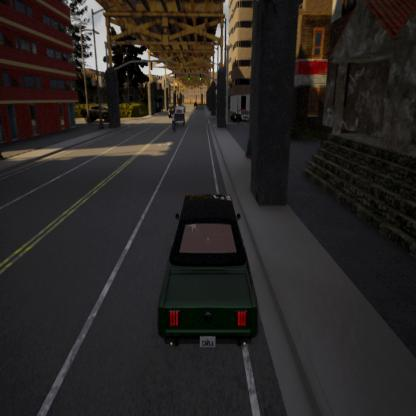Cars: (156, 188, 261, 357), (230, 107, 252, 125), (174, 106, 186, 126), (168, 104, 176, 118)
